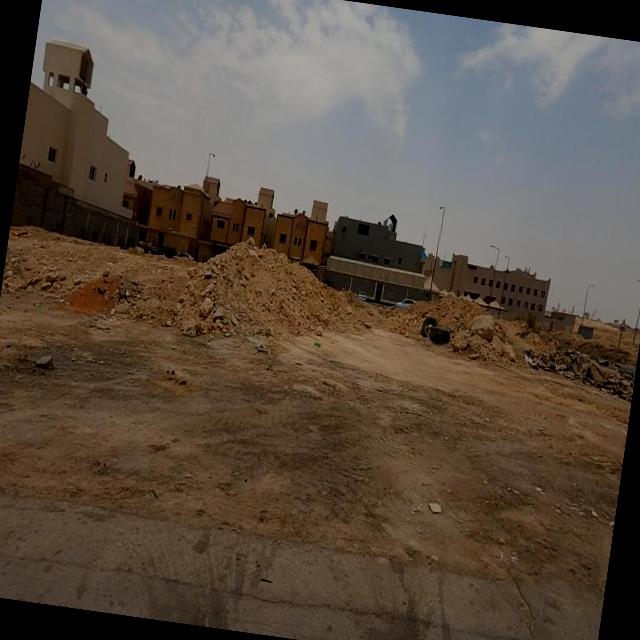debris: (388, 284, 482, 374), (394, 464, 472, 556), (512, 334, 563, 386)
